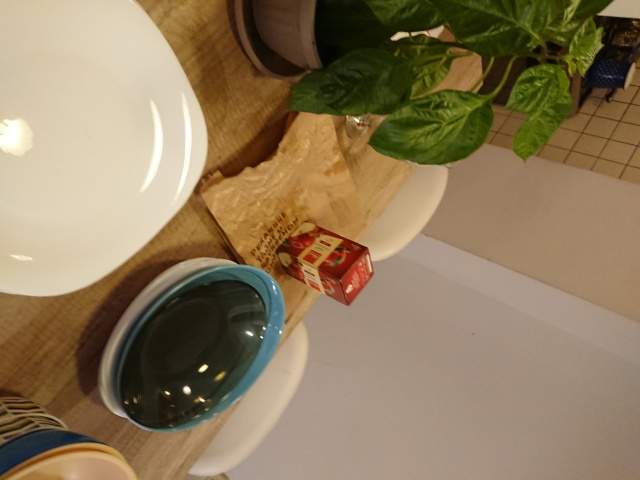Franck Apple Cinnamon Tea 60g: (272, 217, 377, 309)
